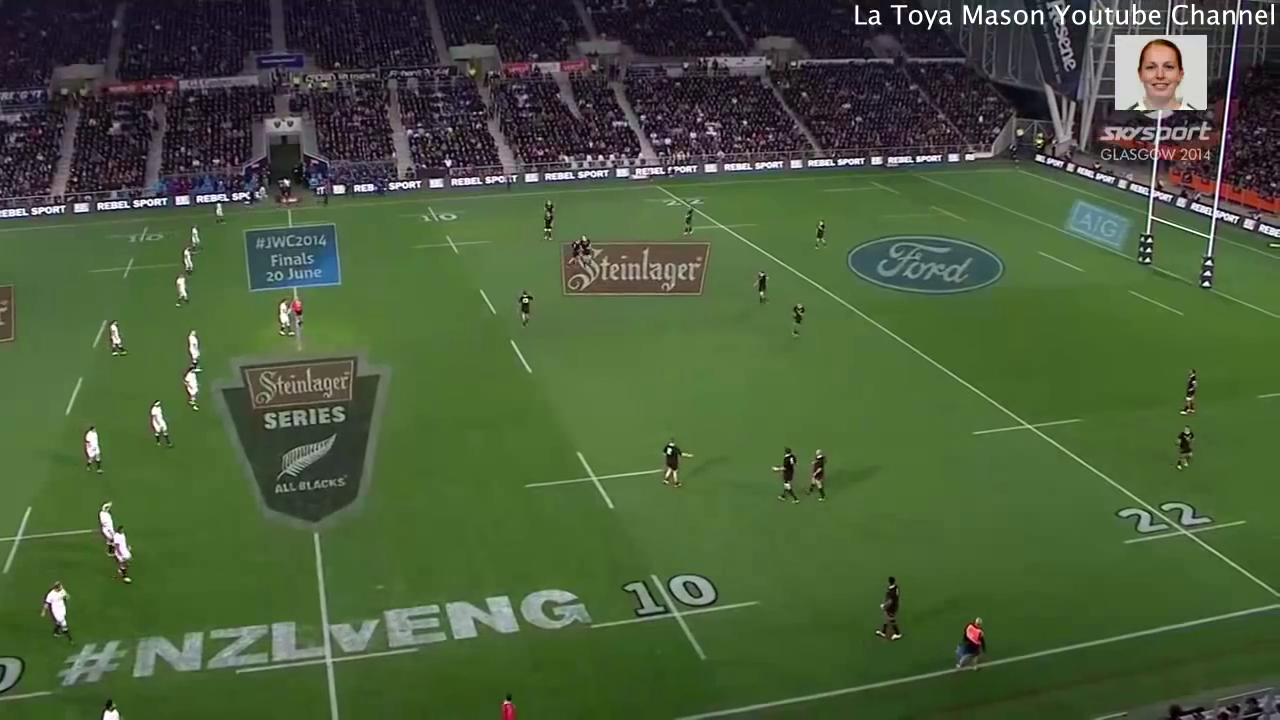10_metre: (587, 563, 766, 666), (514, 442, 678, 513), (82, 252, 191, 284), (412, 231, 496, 263), (396, 200, 475, 229), (99, 221, 187, 247)
player: (865, 568, 912, 646), (36, 571, 80, 647), (947, 607, 993, 676), (768, 442, 811, 512), (654, 431, 697, 500), (1173, 358, 1209, 424), (1167, 422, 1205, 482), (799, 440, 832, 508), (142, 396, 177, 454), (80, 421, 112, 477), (94, 501, 120, 562), (178, 363, 206, 415), (111, 522, 134, 585), (271, 295, 299, 344), (781, 292, 808, 342), (182, 326, 206, 375), (105, 314, 129, 362), (751, 264, 773, 315), (677, 200, 702, 243), (286, 293, 311, 334), (808, 215, 832, 256), (495, 685, 523, 720), (517, 288, 536, 332), (172, 269, 192, 310), (579, 233, 599, 267), (187, 222, 206, 257), (178, 245, 198, 278), (567, 233, 584, 270), (97, 695, 121, 720), (209, 198, 230, 226), (540, 208, 554, 245), (541, 196, 556, 217)
post: (1131, 41, 1240, 298)
